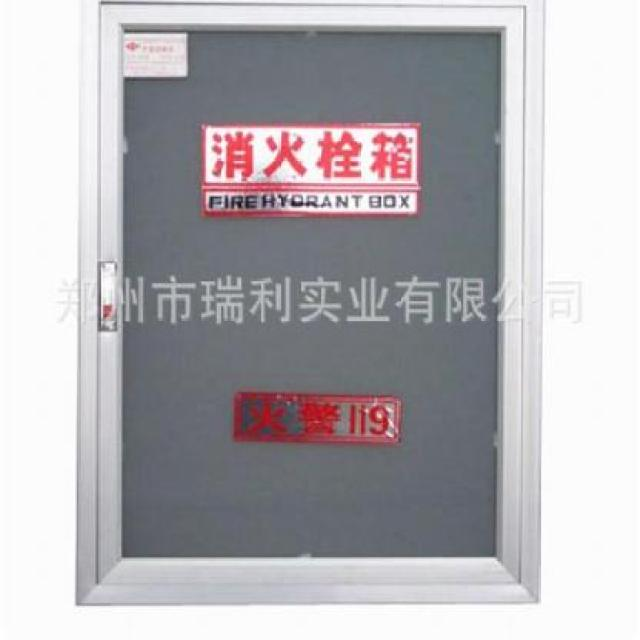firehydrant: (71, 1, 545, 614)
